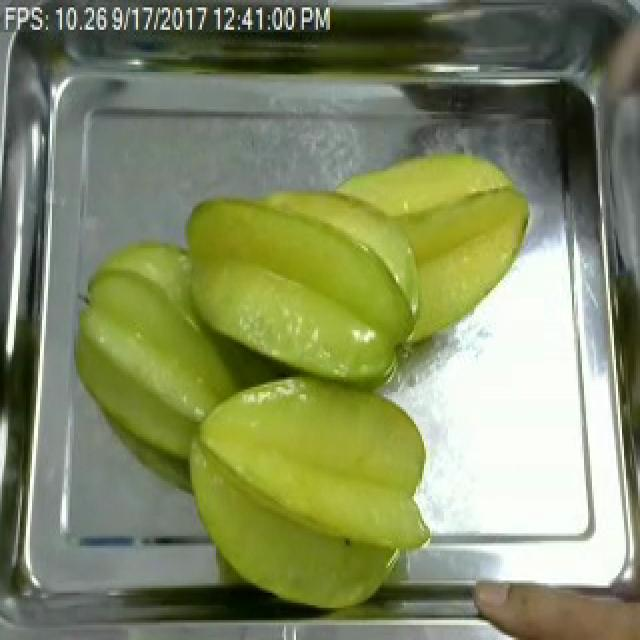fruit: (164, 156, 530, 392), (176, 365, 442, 620), (64, 228, 248, 486), (464, 570, 640, 640)
